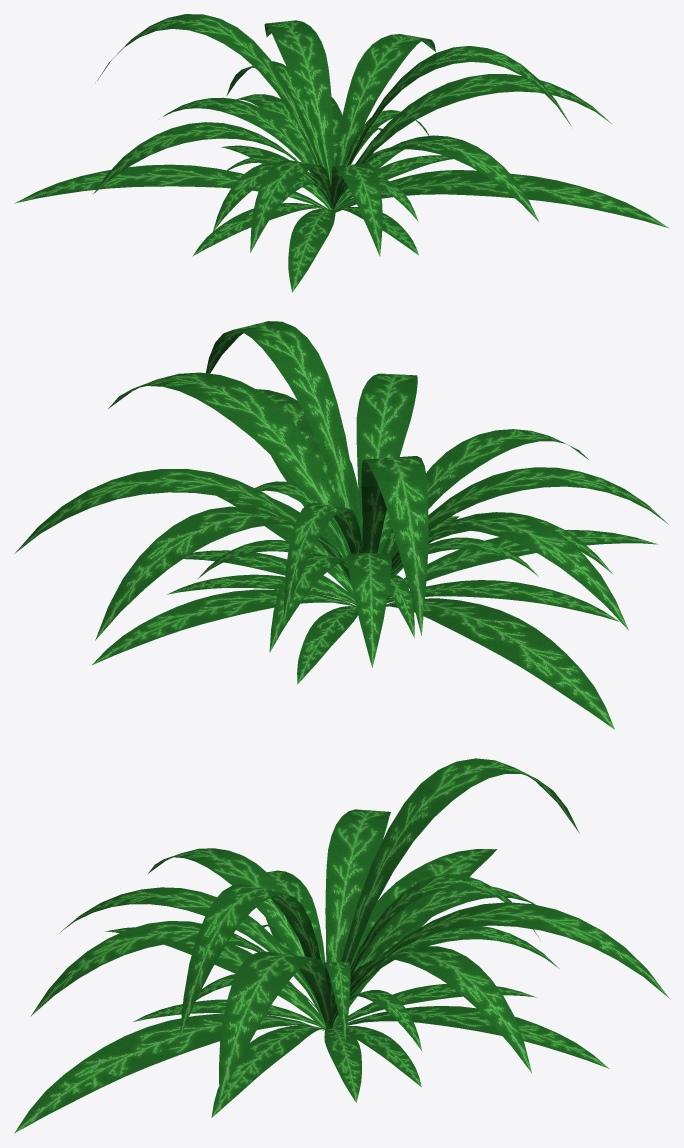
Rendered from effectplant.fbx.
3 views of the same model, one above another, from view 1: azimuth 30°, elevation 25°; view 2: azimuth 150°, elevation 25°; view 3: azimuth 270°, elevation 25° (orthographic). The views are drawn at different scales.
Parts seen in each view (by area): view 1: Plane#2; view 2: Plane#2; view 3: Plane#2.
Part boxes in pixels (x1=…): Plane#2: x1=14, y1=14, x2=669, y2=292; Plane#2: x1=14, y1=321, x2=668, y2=729; Plane#2: x1=14, y1=758, x2=669, y2=1133.
Bounding box in the file's own units: 2.26 × 0.7449 × 2.08.
1 material, 1 textured.
